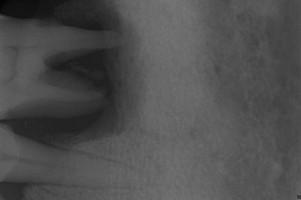Dental Caries: (34, 0, 142, 146)
